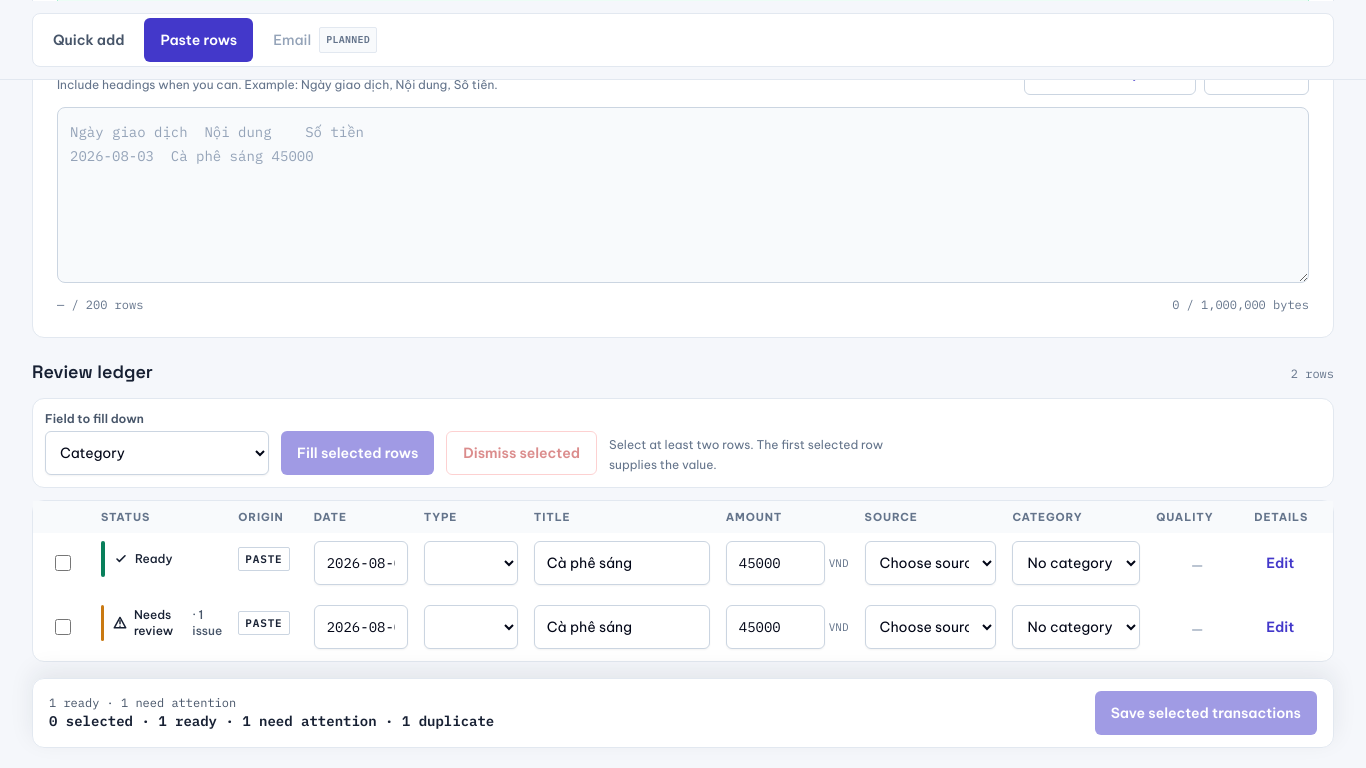
Test: spreadsheet transaction capture › shows selected, ready, review, and duplicate counts while blocking empty and non-ready selections
The width and height of the screenshot is (1366, 768).
(page scrolled)
Expected: the text "0 selected · 1 ready · 1 need attention · 1 duplicate" is shown, [49,711,494,731]
Expected: the button "Save selected transactions" is disabled, [1095,691,1317,735]
Click the checkbox named "Select row 1" at coordinates (63, 563), box [55,555,71,571]
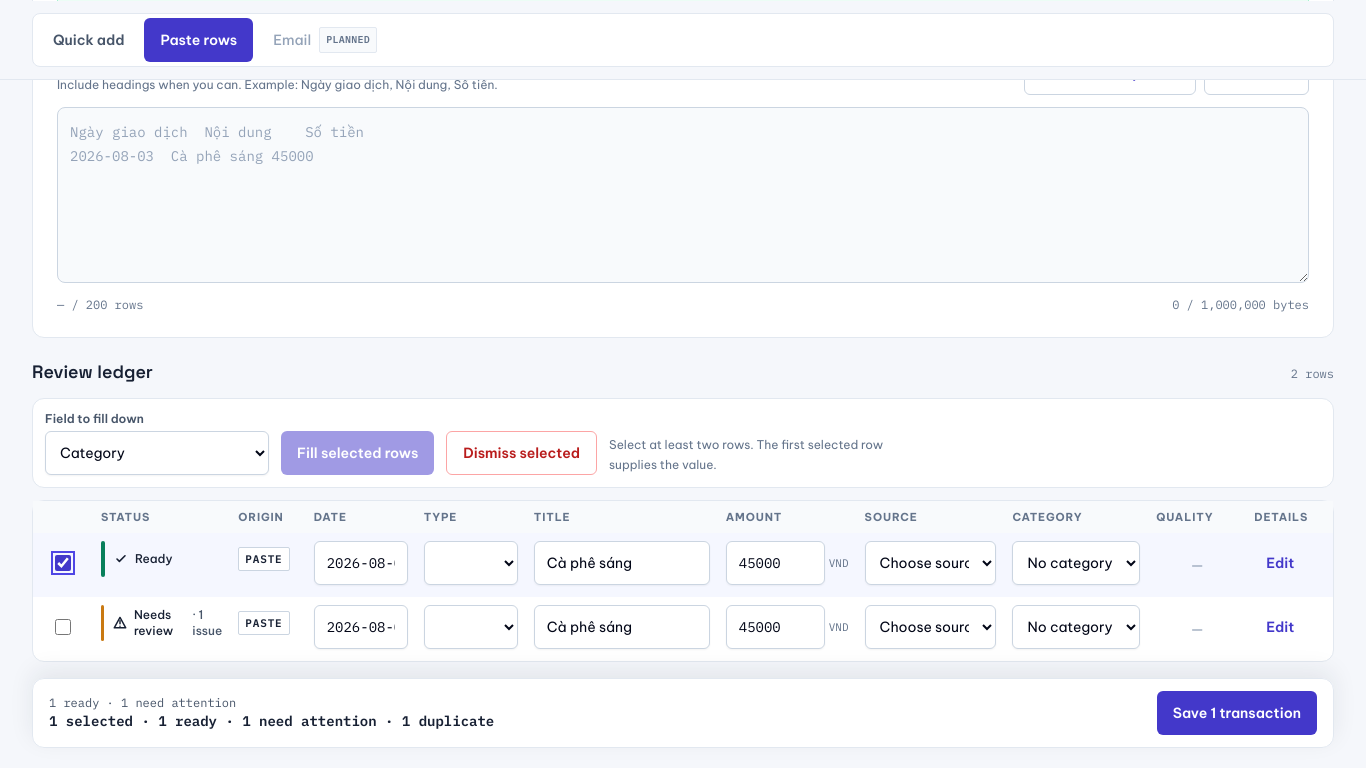
Result: the text "1 selected · 1 ready · 1 need attention · 1 duplicate" is shown at [49,711,494,731]
Result: the button "Save 1 transaction" is enabled at [1157,691,1317,735]
Click the checkbox named "Select row 2" at coordinates (63, 627), box [55,619,71,635]
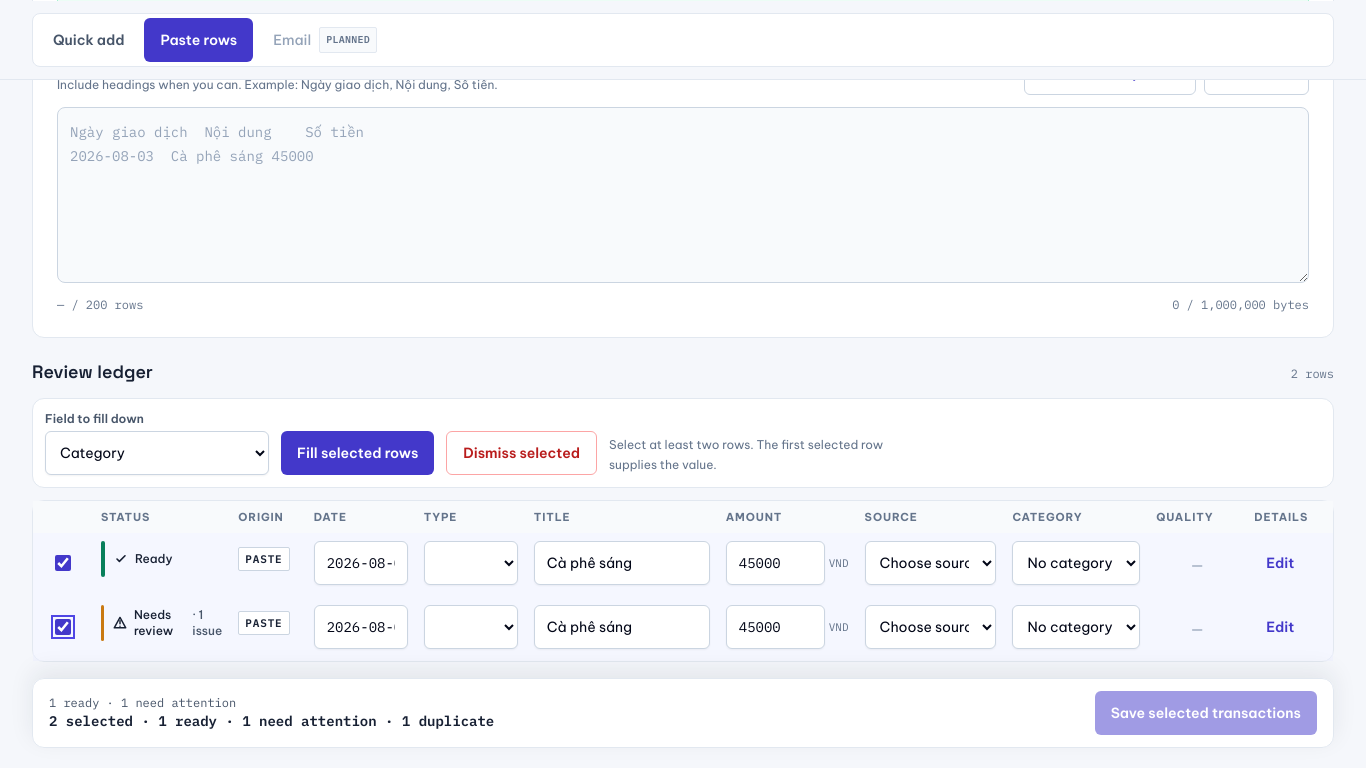
Result: the text "2 selected · 1 ready · 1 need attention · 1 duplicate" is shown at [49,711,494,731]
Result: the button "Save selected transactions" is disabled at [1095,691,1317,735]
